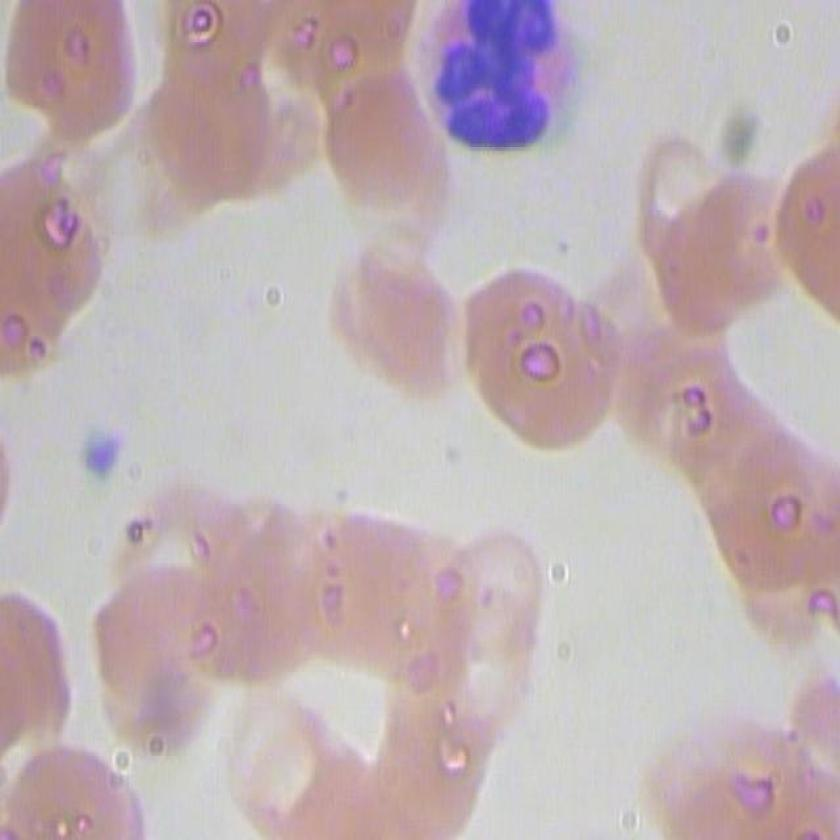neutrophil: (426, 1, 577, 160)
